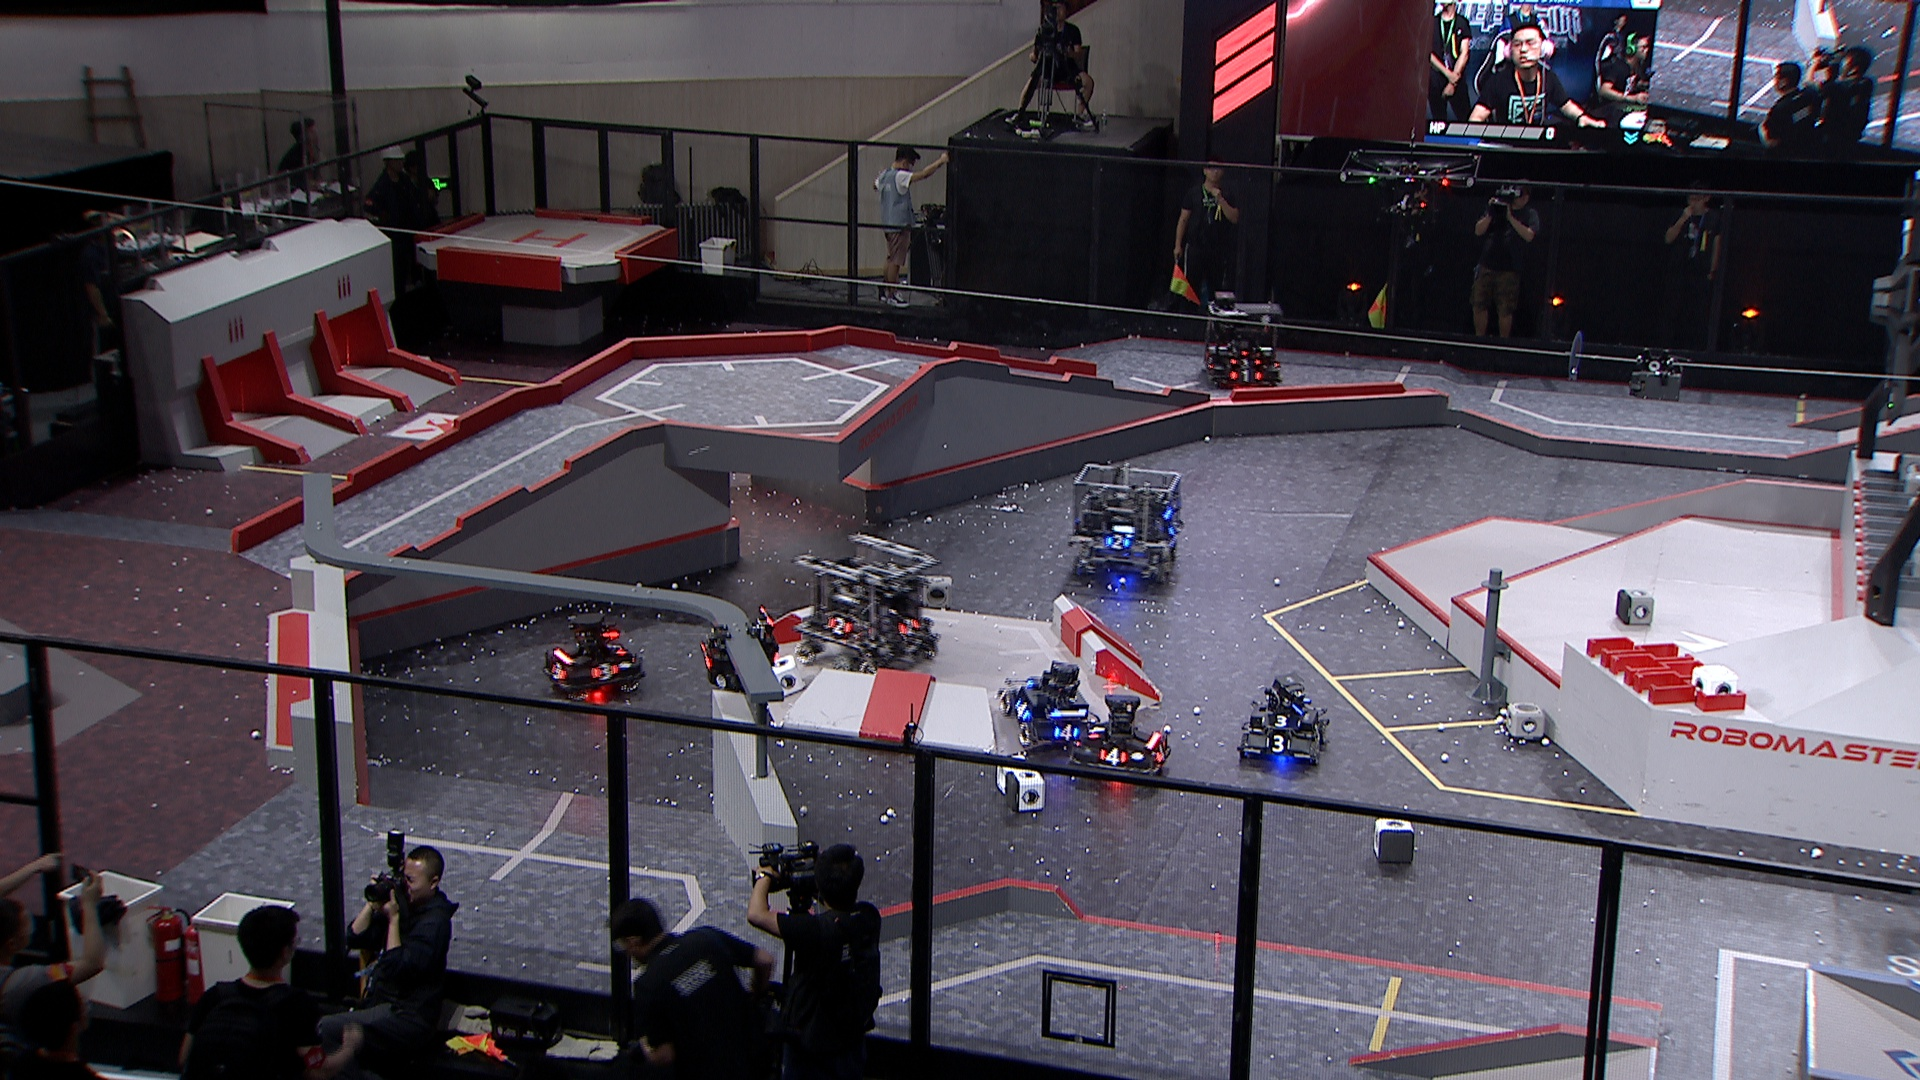armor: (1259, 713, 1304, 731), (1262, 735, 1295, 754), (589, 661, 621, 680), (1100, 745, 1129, 766), (827, 616, 855, 637), (698, 642, 716, 673), (1011, 698, 1031, 725), (1230, 368, 1265, 384), (1054, 723, 1081, 741), (1106, 533, 1131, 553), (898, 616, 920, 637), (1154, 737, 1168, 764), (1229, 356, 1261, 368), (1087, 723, 1106, 740), (605, 641, 626, 657), (550, 662, 567, 680), (1309, 725, 1324, 742), (1203, 353, 1216, 372)
car: (795, 531, 940, 679), (1067, 462, 1179, 589), (1067, 688, 1174, 783), (998, 659, 1102, 756), (543, 609, 647, 704), (1240, 669, 1331, 769), (1201, 294, 1288, 392)
watcher: (698, 607, 781, 695)
